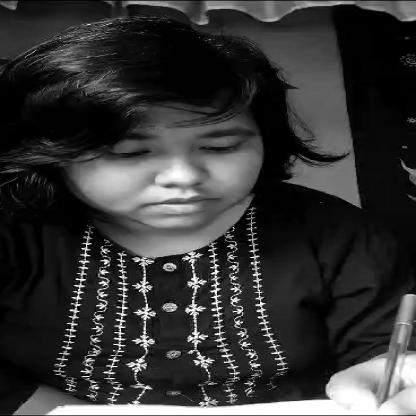Normal: (51, 91, 274, 235)
